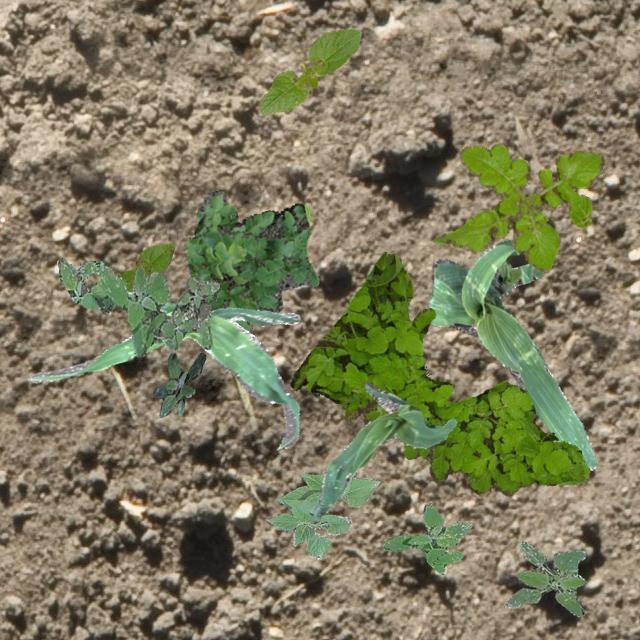crop: (29, 291, 300, 447), (427, 238, 598, 468), (312, 382, 456, 522), (266, 472, 378, 558), (256, 28, 360, 114), (116, 242, 174, 292)
weed: (290, 250, 588, 494), (432, 142, 604, 272), (184, 188, 318, 332), (55, 256, 218, 356), (382, 502, 472, 572), (504, 540, 584, 616), (152, 352, 204, 416)
